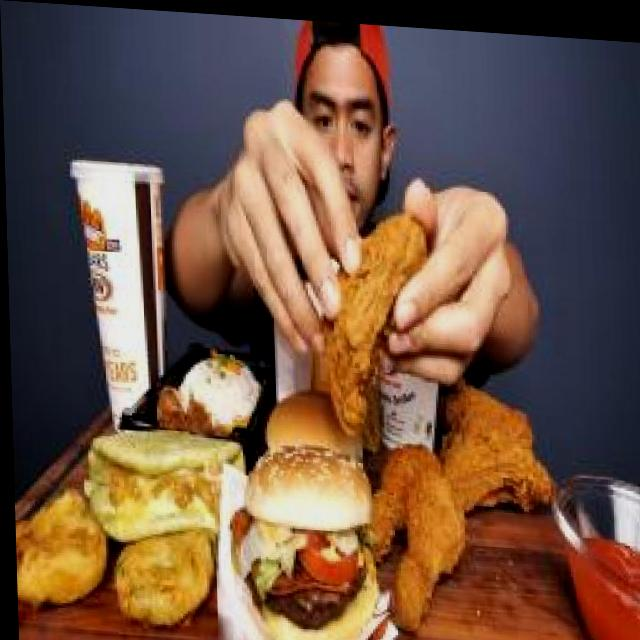AW cola: (71, 149, 181, 419)
black pepper rice bowl: (141, 332, 263, 436)
cheese burger: (258, 363, 371, 472)
fried chicken: (358, 351, 557, 624), (309, 189, 443, 449)
mango chicken pocket: (69, 408, 253, 561)
mozza burger: (228, 433, 383, 640)
perkedel: (104, 510, 215, 638), (11, 480, 106, 620)
